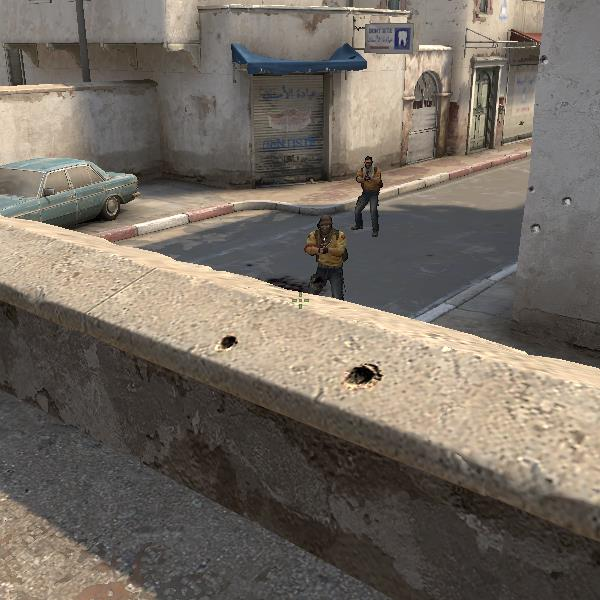t_body: (296, 210, 357, 292)
t_head: (313, 212, 337, 236)
